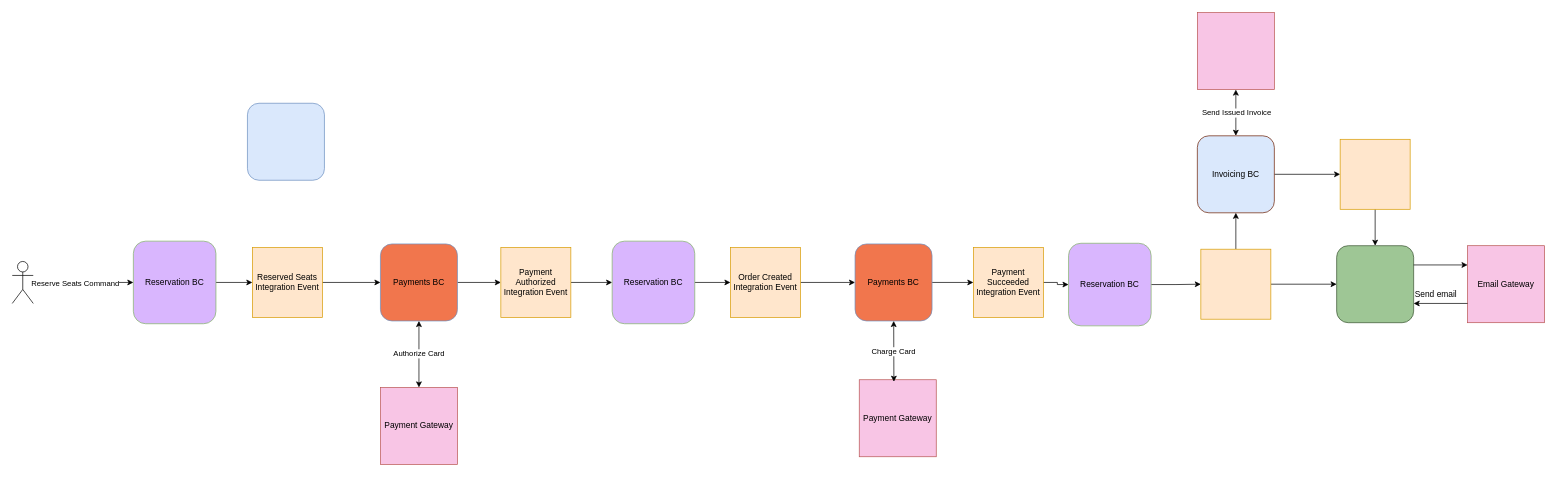
Some shapes in this 1557 by 477 pixel diagram are drawn without their labels. Here are the shapes that lost their labels. From the top down, the centre of each, then its label:
point (1235, 51): Accounting Gateway
point (285, 141): Pricing BC
point (1374, 174): Invoice Generated Integration Event
point (22, 282): Actor
point (1235, 283): Purchased Reservation Integration Event
point (1375, 284): Customer Notifications BC
